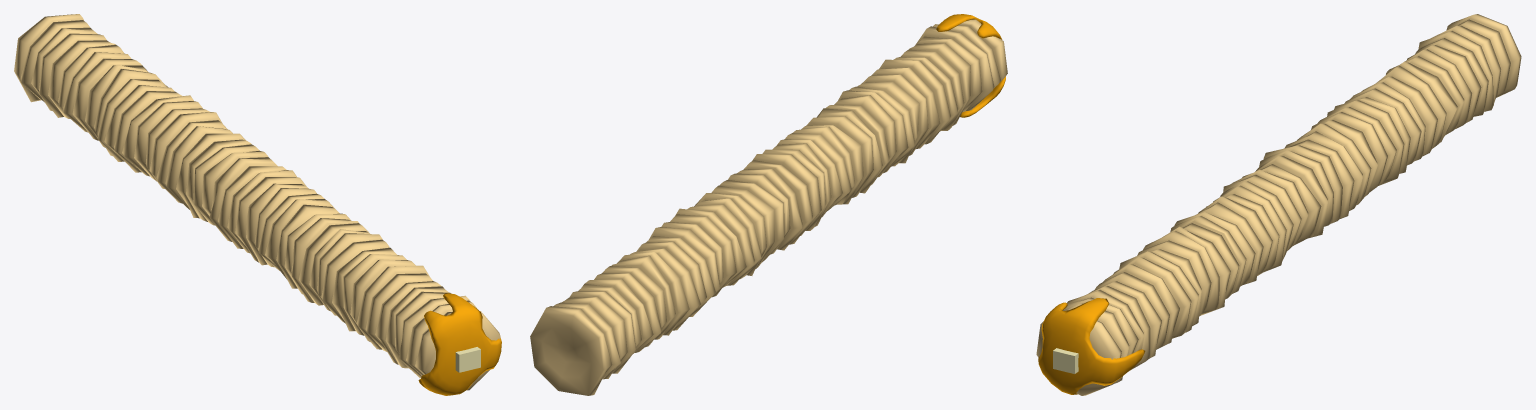
The model's file is V2_Pipe.fbx.
3 renders of one model, left to right at view 1: azimuth 30°, elevation 25°; view 2: azimuth 150°, elevation 25°; view 3: azimuth 330°, elevation 25°, orthographic.
Parts seen in each view (by area): view 1: V2_Pipe; view 2: V2_Pipe; view 3: V2_Pipe.
Part boxes in pixels (x1,y1,x2,y2): V2_Pipe: (14, 14, 501, 395); V2_Pipe: (530, 14, 1007, 395); V2_Pipe: (1036, 14, 1521, 395).
Size of the model in its own units: 301 by 297 by 2503.
